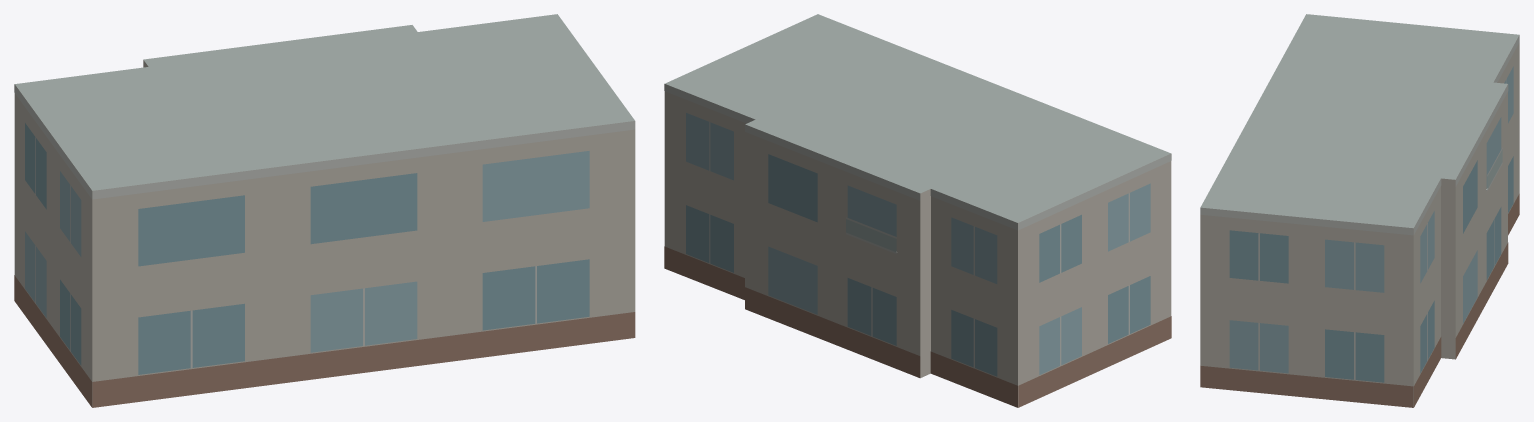
Rendered from survey-upis-32562527.glb.
3 renders of one model, left to right at view 1: azimuth 30°, elevation 25°; view 2: azimuth 150°, elevation 25°; view 3: azimuth 270°, elevation 25°, orthographic. The views are drawn at different scales.
Visible parts, largest first — view 1: survey-upis-32562527.tmp; view 2: survey-upis-32562527.tmp; view 3: survey-upis-32562527.tmp.
Part boxes in pixels (bbox=[...]): survey-upis-32562527.tmp: bbox=[14, 14, 635, 407]; survey-upis-32562527.tmp: bbox=[664, 14, 1171, 407]; survey-upis-32562527.tmp: bbox=[1200, 14, 1519, 407].
Bounding box in the file's own units: 15.61 × 6.1 × 9.84.
